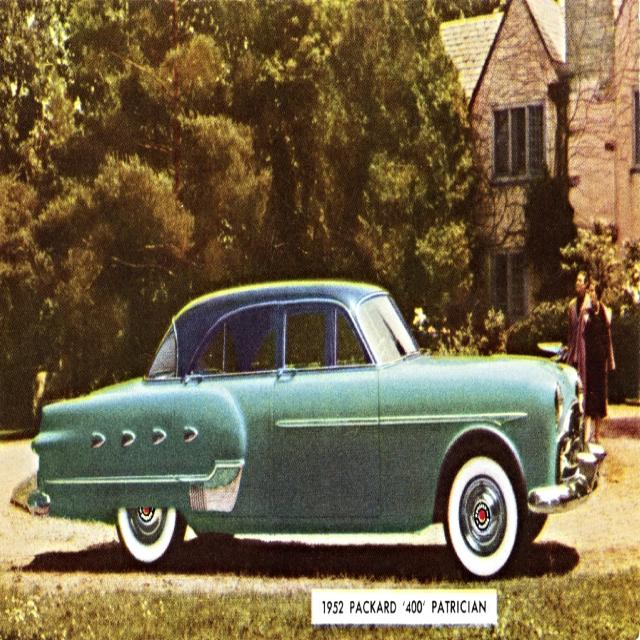car: (29, 272, 608, 581)
